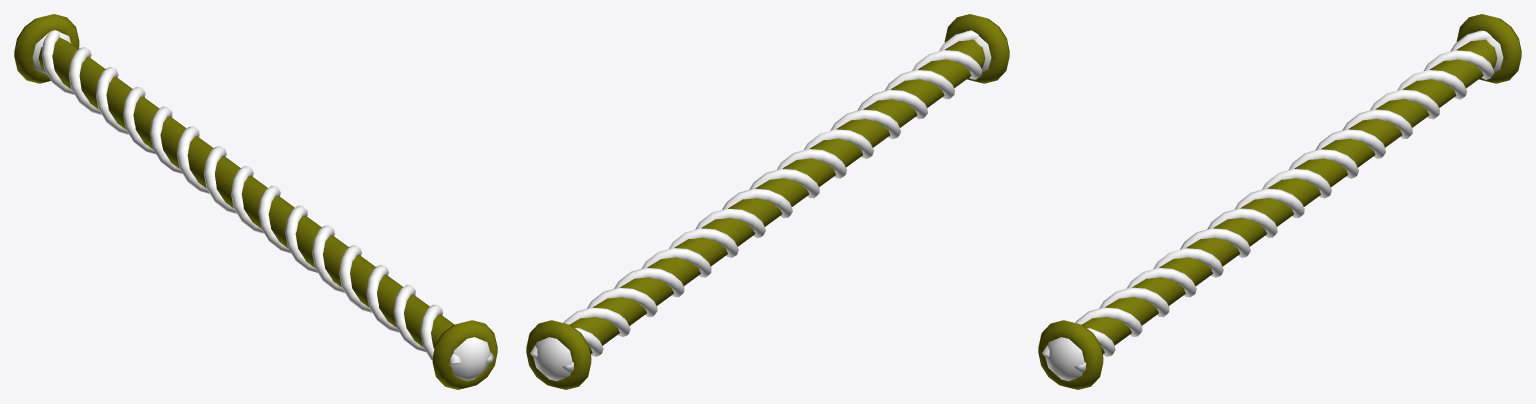
File: Rope.glb
3 views of the same model, side by side, from view 1: azimuth 30°, elevation 25°; view 2: azimuth 150°, elevation 25°; view 3: azimuth 330°, elevation 25° (orthographic).
Parts seen in each view (by area): view 1: Twist, Body, Knots; view 2: Twist, Body, Knots; view 3: Twist, Body, Knots.
Boxes of the visible parts, x1=… form: Twist: x1=41, y1=30, x2=493, y2=365; Body: x1=38, y1=37, x2=454, y2=348; Knots: x1=14, y1=14, x2=497, y2=389; Twist: x1=530, y1=30, x2=981, y2=373; Body: x1=570, y1=39, x2=985, y2=353; Knots: x1=526, y1=14, x2=1009, y2=389; Twist: x1=1042, y1=30, x2=1494, y2=373; Body: x1=1082, y1=39, x2=1497, y2=353; Knots: x1=1038, y1=14, x2=1521, y2=389.
Size of the model in its own units: 0.1456 by 0.1419 by 1.71.
Materials: 1 (1 with a texture image).
